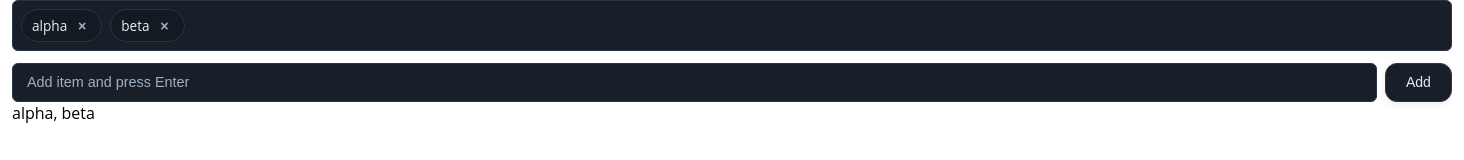
it: ChipInput › remove button removes the specific chip
Click the button named "remove item: alpha": [82, 26] box [73,16,91,34]
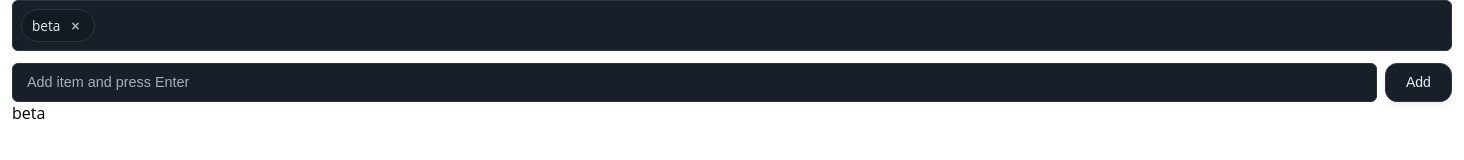
Check: the text with test id "csv" reads "beta", box [12,102,45,124]
Check: the text "alpha" is gone
